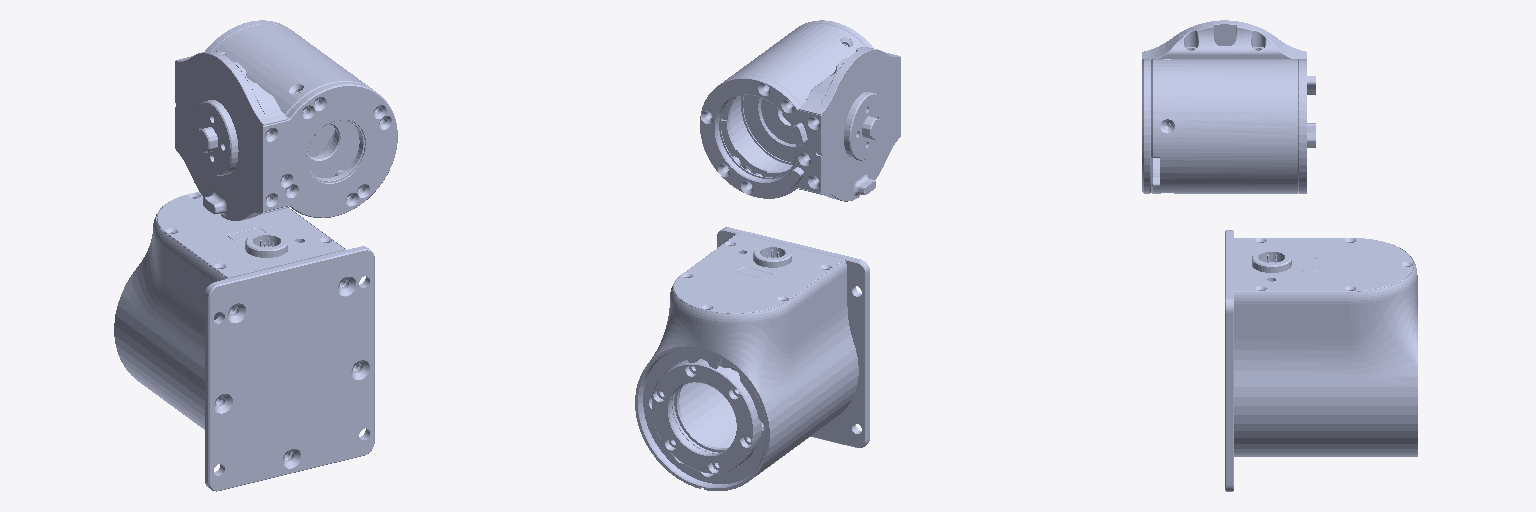
robot.urdf — piper_description:
<?xml version="1.0" encoding="utf-8"?>
<!-- This URDF was automatically created by SolidWorks to URDF Exporter! Originally created by [author] ([email redacted]) 
     Commit Version: 1.6.0-4-g7f85cfe  Build Version: 1.6.7995.38578
     For more information, please see http://wiki.ros.org/sw_urdf_exporter -->
<robot
  name="piper_description">
  <link
    name="base_link">
    <inertial>
      <origin
        xyz="-0.00979274765955341 1.82905827587138E-06 0.0410100126360189"
        rpy="0 0 0" />
      <mass
        value="0.162548567403693" />
      <inertia
        ixx="0.000226596924525071"
        ixy="-7.33972270153965E-08"
        ixz="2.13249977802622E-06"
        iyy="0.000269444772561524"
        iyz="8.15169009611054E-09"
        izz="0.000222318258878636" />
    </inertial>
    <visual>
      <origin
        xyz="0 0 0"
        rpy="0 0 0" />
      <geometry>
        <mesh
          filename="package://piper_description/meshes/base_link.dae" />
      </geometry>
      <material
        name="">
        <color
          rgba="0.792156862745098 0.819607843137255 0.933333333333333 1" />
      </material>
    </visual>
    <collision>
      <origin
        xyz="0 0 0"
        rpy="0 0 0" />
      <geometry>
        <mesh
          filename="package://piper_description/meshes/base_link.STL" />
      </geometry>
    </collision>
  </link>
  <link
    name="link1">
    <inertial>
      <origin
        xyz="0.00131676031927024 0.000310288842008612 -0.00922874512303437"
        rpy="0 0 0" />
      <mass
        value="0.0978679932242825" />
      <inertia
        ixx="7.76684558296782E-05"
        ixy="1.09084650459924E-07"
        ixz="-1.9748053243241E-06"
        iyy="9.24967780161547E-05"
        iyz="9.91284646834582E-07"
        izz="8.24589062407807E-05" />
    </inertial>
    <visual>
      <origin
        xyz="0 0 0"
        rpy="0 0 0" />
      <geometry>
        <mesh
          filename="package://piper_description/meshes/link1.dae" />
      </geometry>
      <material
        name="">
        <color
          rgba="0.792156862745098 0.819607843137255 0.933333333333333 1" />
      </material>
    </visual>
    <collision>
      <origin
        xyz="0 0 0"
        rpy="0 0 0" />
      <geometry>
        <mesh
          filename="package://piper_description/meshes/link1.STL" />
      </geometry>
    </collision>
  </link>
  <joint
    name="joint1"
    type="revolute">
    <origin
      xyz="0 0 0.123"
      rpy="0 0 -1.5708" />
    <parent
      link="base_link" />
    <child
      link="link1" />
    <axis
      xyz="0 0 1" />
    <limit
      lower="-2.618"
      upper="2.618"
      effort="100"
      velocity="3" />
  </joint>
  <link
    name="link2">
    <inertial>
      <origin
        xyz="0.148793602378802 -0.00242026983944119 0.00175154638467948"
        rpy="0 0 0" />
      <mass
        value="0.290888938633388" />
      <inertia
        ixx="0.000148959640166183"
        ixy="-7.37750384371657E-05"
        ixz="-9.68688405196236E-07"
        iyy="0.00172800946632652"
        iyz="-1.09692225564224E-06"
        izz="0.0017754628344594" />
    </inertial>
    <visual>
      <origin
        xyz="0 0 0"
        rpy="0 0 0" />
      <geometry>
        <mesh
          filename="package://piper_description/meshes/link2.dae" />
      </geometry>
      <material
        name="">
        <color
          rgba="0.792156862745098 0.819607843137255 0.933333333333333 1" />
      </material>
    </visual>
    <collision>
      <origin
        xyz="0 0 0"
        rpy="0 0 0" />
      <geometry>
        <mesh
          filename="package://piper_description/meshes/link2.STL" />
      </geometry>
    </collision>
  </link>
  <joint
    name="joint2"
    type="revolute">
    <origin
      xyz="0 0 0"
      rpy="1.5708 -0.034907 -1.5708" />
    <parent
      link="link1" />
    <child
      link="link2" />
    <axis
      xyz="0 0 1" />
    <limit
      lower="0"
      upper="3.14"
      effort="100"
      velocity="3" />
  </joint>
  <link
    name="link3">
    <inertial>
      <origin
        xyz="-0.0996835215213704 0.0349477226691318 0.000508025815507312"
        rpy="0 0 0" />
      <mass
        value="0.290847697793211" />
      <inertia
        ixx="0.000107879011637167"
        ixy="2.92669521203626E-05"
        ixz="6.825922326238E-07"
        iyy="0.000214751671792086"
        iyz="-7.78469047878196E-07"
        izz="0.000241923439340319" />
    </inertial>
    <visual>
      <origin
        xyz="0 0 0"
        rpy="0 0 0" />
      <geometry>
        <mesh
          filename="package://piper_description/meshes/link3.dae" />
      </geometry>
      <material
        name="">
        <color
          rgba="0.792156862745098 0.819607843137255 0.933333333333333 1" />
      </material>
    </visual>
    <collision>
      <origin
        xyz="0 0 0"
        rpy="0 0 0" />
      <geometry>
        <mesh
          filename="package://piper_description/meshes/link3.STL" />
      </geometry>
    </collision>
  </link>
  <joint
    name="joint3"
    type="revolute">
    <origin
      xyz="0.28358 0.028726 0"
      rpy="0 0 0.06604341" />
    <parent
      link="link2" />
    <child
      link="link3" />
    <axis
      xyz="0 0 1" />
    <limit
      lower="-2.697"
      upper="0"
      effort="100"
      velocity="3" />
  </joint>
  <link
    name="link4">
    <inertial>
      <origin
        xyz="0.000276464622387979 -0.00102803669324875 -0.00472830700561663"
        rpy="0 0 0" />
      <mass
        value="0.127087348341362" />
      <inertia
        ixx="3.82011730423416E-05"
        ixy="-4.92358350897513E-08"
        ixz="4.89589432973119E-08"
        iyy="4.87048555222578E-05"
        iyz="6.70802942500512E-08"
        izz="4.10592077565559E-05" />
    </inertial>
    <visual>
      <origin
        xyz="0 0 0"
        rpy="0 0 0" />
      <geometry>
        <mesh
          filename="package://piper_description/meshes/link4.dae" />
      </geometry>
      <material
        name="">
        <color
          rgba="0.792156862745098 0.819607843137255 0.933333333333333 1" />
      </material>
    </visual>
    <collision>
      <origin
        xyz="0 0 0"
        rpy="0 0 0" />
      <geometry>
        <mesh
          filename="package://piper_description/meshes/link4.STL" />
      </geometry>
    </collision>
  </link>
  <joint
    name="joint4"
    type="revolute">
    <origin
      xyz="-0.24221 0.068514 0"
      rpy="-1.5708 0 1.3826" />
    <parent
      link="link3" />
    <child
      link="link4" />
    <axis
      xyz="0 0 1" />
    <limit
      lower="-1.832"
      upper="1.832"
      effort="100"
      velocity="3" />
  </joint>
  <link
    name="link5">
    <inertial>
      <origin
        xyz="8.82262433516967E-05 0.0566829014808256 -0.00196119720482461"
        rpy="0 0 0" />
      <mass
        value="0.144711242639457" />
      <inertia
        ixx="4.39644313662493E-05"
        ixy="-3.59259686444846E-08"
        ixz="-1.89747741386183E-08"
        iyy="5.63173920951307E-05"
        iyz="-2.1540716689785E-07"
        izz="4.88713664675268E-05" />
    </inertial>
    <visual>
      <origin
        xyz="0 0 0"
        rpy="0 0 0" />
      <geometry>
        <mesh
          filename="package://piper_description/meshes/link5.dae" />
      </geometry>
      <material
        name="">
        <color
          rgba="0.792156862745098 0.819607843137255 0.933333333333333 1" />
      </material>
    </visual>
    <collision>
      <origin
        xyz="0 0 0"
        rpy="0 0 0" />
      <geometry>
        <mesh
          filename="package://piper_description/meshes/link5.STL" />
      </geometry>
    </collision>
  </link>
  <joint
    name="joint5"
    type="revolute">
    <origin
      xyz="0 0 0"
      rpy="1.5708 0 0" />
    <parent
      link="link4" />
    <child
      link="link5" />
    <axis
      xyz="0 0 1" />
    <limit
      lower="-1.22"
      upper="1.22"
      effort="100"
      velocity="3" />
  </joint>

</robot>

--- Render facts (derived) ---
The picture shows the robot from 3 angles, left to right: view 1: azimuth 30°, elevation 25°; view 2: azimuth 150°, elevation 25°; view 3: azimuth 270°, elevation 25°; orthographic projection.
Robot: piper_description — 6 links, 5 joints (5 revolute); root link base_link; default pose: every joint at zero.
Links seen in each view (by area): view 1: base_link, link1; view 2: base_link, link1; view 3: base_link, link1.
Link boxes in pixels (<box>): base_link: <box>114,192,374,491</box>; link1: <box>175,20,397,220</box>; base_link: <box>635,227,869,490</box>; link1: <box>700,20,900,201</box>; base_link: <box>1225,230,1417,491</box>; link1: <box>1142,20,1315,193</box>.
Size in the robot's own frame: 0.083 by 0.1228 by 0.1989 metres.
Meshes: 6 distinct files referenced, 2 mesh visuals loaded (2 Collada DAE); not drawn: 4 (reference not matched to a file when rendering).